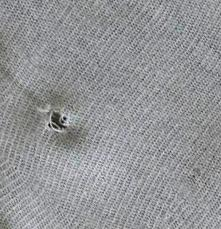hole: (41, 101, 74, 136)
